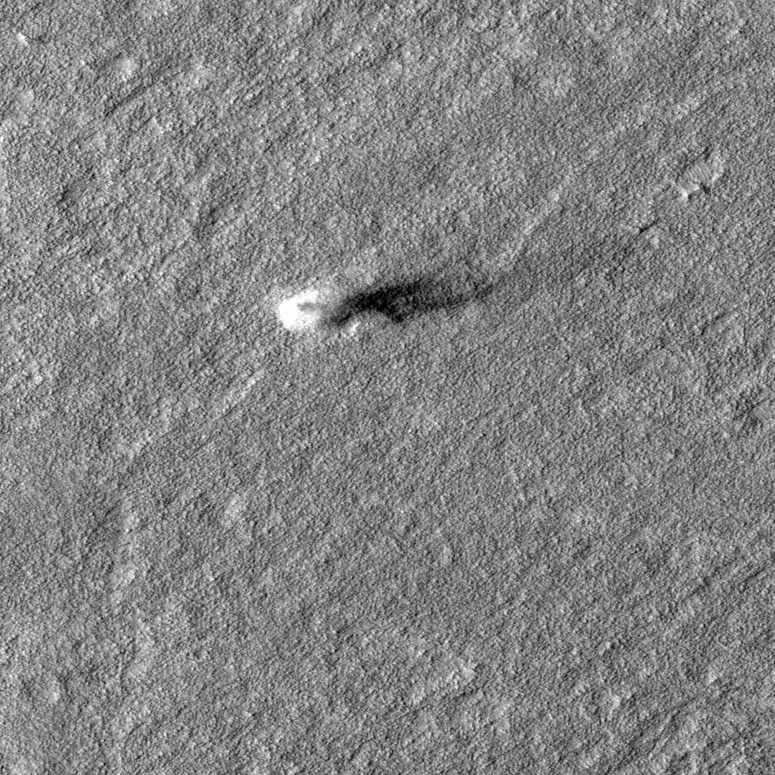dust_devil: (272, 268, 496, 337)
